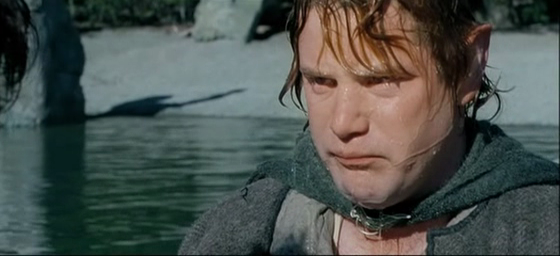cu: (1, 1, 560, 256)
face: (297, 29, 431, 207)
person: (175, 1, 558, 254)
